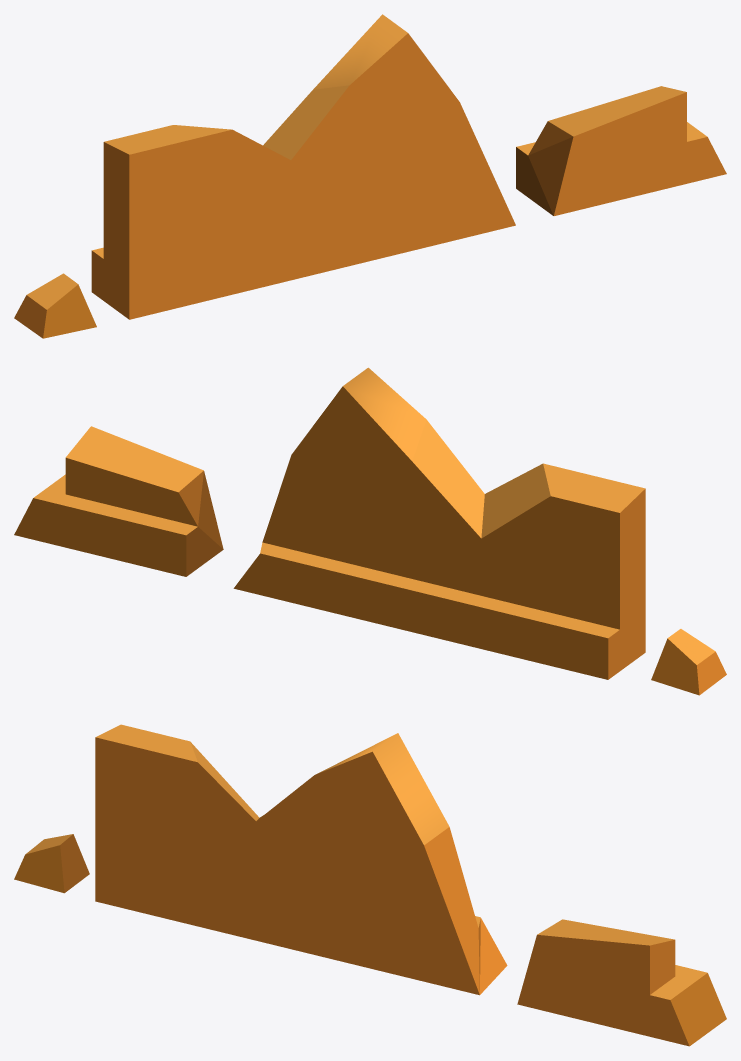
File: wall_damaged_04.fbx
3 renders of one model, top to bottom at view 1: azimuth 30°, elevation 25°; view 2: azimuth 150°, elevation 25°; view 3: azimuth 330°, elevation 25°, orthographic.
Parts seen in each view (by area): view 1: wall_damaged_04; view 2: wall_damaged_04; view 3: wall_damaged_04.
Part boxes in pixels (x1,y1,x2,y2): wall_damaged_04: (14,14,726,338); wall_damaged_04: (14,367,726,695); wall_damaged_04: (14,724,726,1046).
Bounding box in the file's own units: 252 × 77.17 × 24.04.
